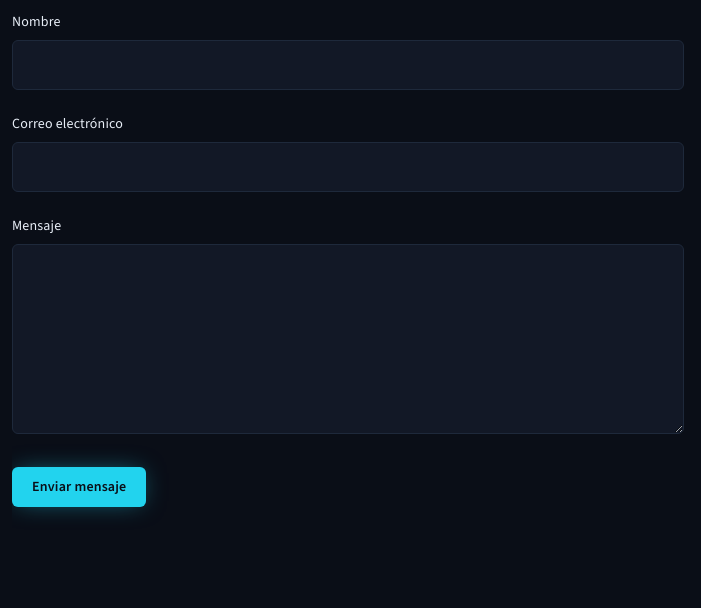
ContactForm › shows the Spanish success message and clears the form on a 201
Type "Ana" into the field labelled "Nombre".
click(348, 65); type("Ana")  # box [12,40,684,90]
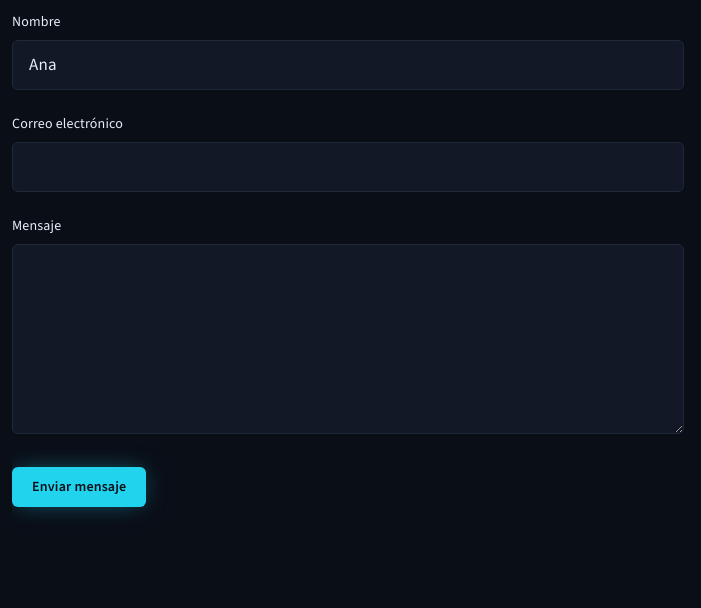
Type "ana@example.com" into the field labelled "Correo electrónico".
click(348, 167); type("ana@example.com")  # box [12,142,684,192]
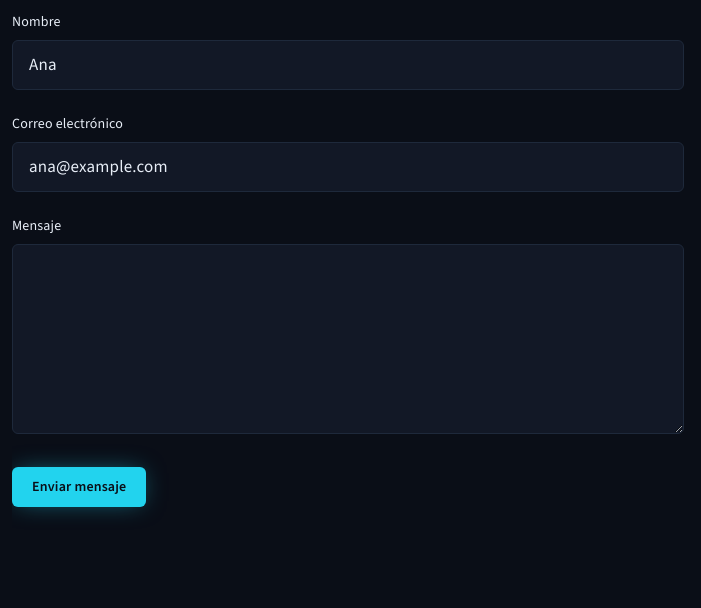
Type "Hola, quería consultar por un proyecto." into the text box labelled "Mensaje".
click(348, 339); type("Hola, quería consultar por un proyecto.")  # box [12,244,684,434]
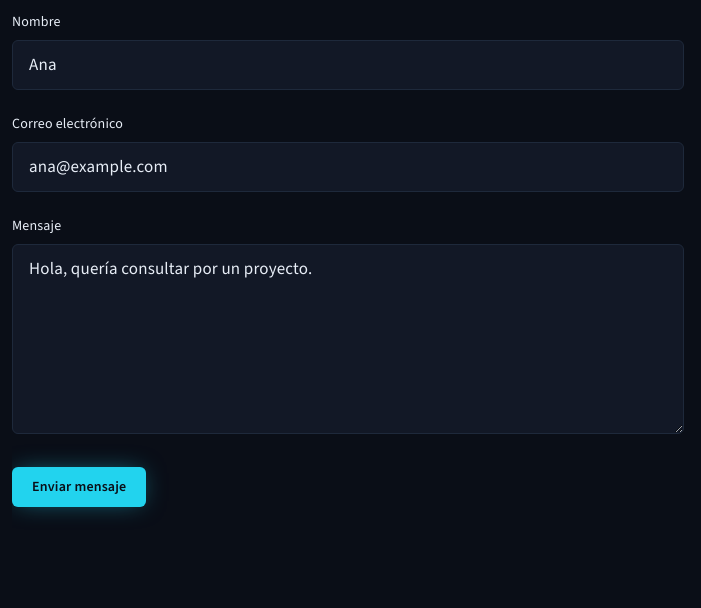
Click the button "Enviar mensaje".
click(79, 487)  # box [12,467,146,507]
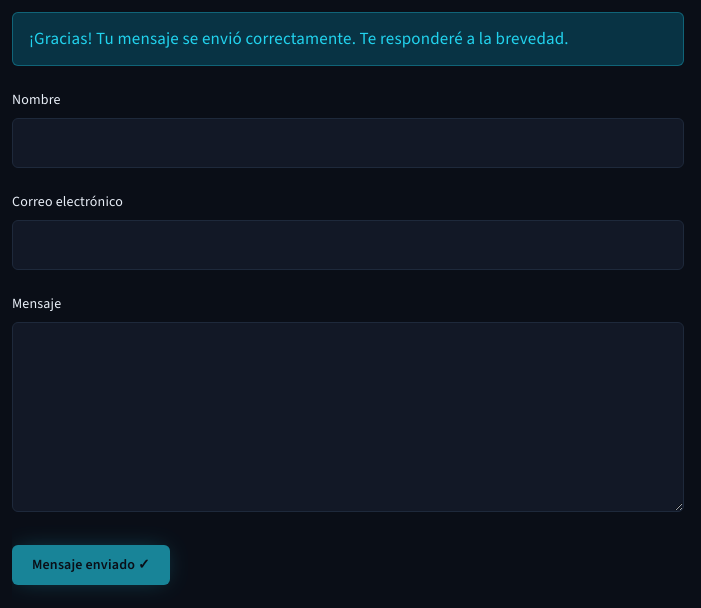
Expected: the message shows "¡Gracias!", [29,27,569,50]
Expected: the field labelled "Nombre" is empty, [12,118,684,168]
Expected: the text box labelled "Mensaje" is empty, [12,322,684,512]
